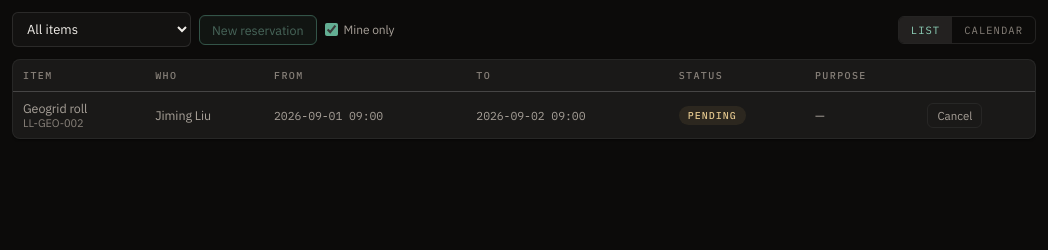
Test: Reservations › flag on: Cancel follows the KEY, not the display name
The width and height of the screenshot is (1048, 250).
Click the checkbox labelled "Mine only": {"x": 331, "y": 30} [325,23,338,36]
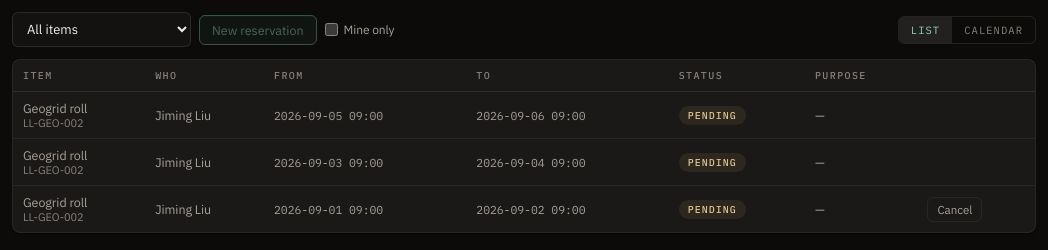
Expected: the number of buttons "Cancel" is 1, [928,196,982,222]
And Mine only (back on) keeps only the key-matching row.
Click the checkbox labelled "Mine only": {"x": 331, "y": 30} [325,23,338,36]
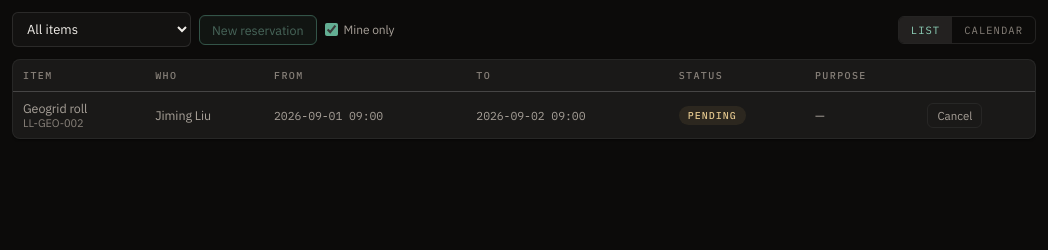
Expected: the text "Jiming Liu" is shown once, [145,92,264,138]
